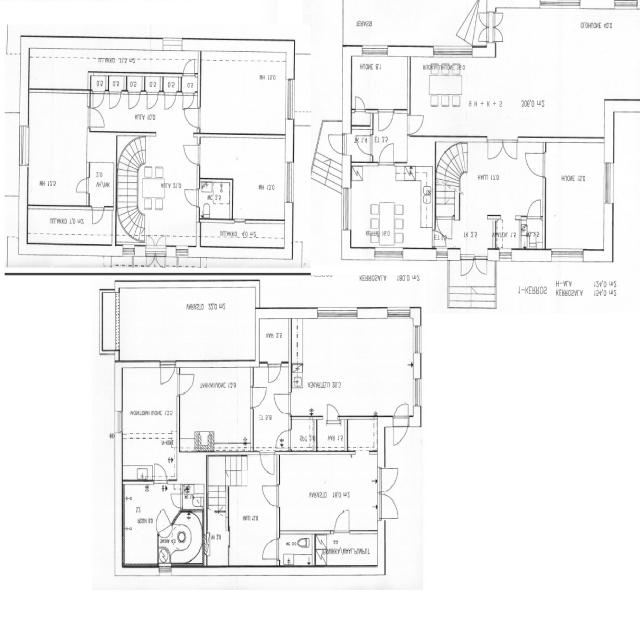door: (378, 468, 406, 494), (378, 494, 406, 519), (523, 152, 546, 178), (325, 133, 352, 155), (393, 395, 409, 427), (393, 416, 409, 448), (322, 394, 340, 419), (459, 248, 474, 278), (473, 248, 488, 278), (260, 538, 280, 560), (251, 385, 270, 408), (153, 510, 171, 534), (354, 134, 373, 156), (159, 361, 175, 387), (88, 107, 107, 128), (334, 510, 350, 534), (177, 374, 195, 395), (182, 107, 200, 128), (182, 144, 200, 165), (437, 217, 453, 240), (262, 486, 280, 506), (488, 136, 503, 160), (503, 136, 518, 160), (379, 142, 394, 166), (379, 110, 394, 133), (407, 115, 425, 134), (182, 188, 200, 207), (273, 394, 290, 414), (260, 452, 274, 474), (274, 430, 291, 448), (267, 364, 281, 385), (145, 229, 156, 255), (156, 229, 167, 255), (528, 198, 541, 219), (154, 464, 167, 484), (145, 243, 155, 269), (156, 243, 166, 269), (432, 230, 447, 247), (182, 92, 195, 110), (92, 206, 104, 225), (128, 92, 140, 111), (92, 92, 104, 111), (183, 58, 195, 76), (110, 92, 122, 110), (76, 178, 90, 193), (354, 96, 366, 113), (164, 92, 175, 110), (147, 92, 158, 110), (476, 12, 489, 27), (476, 27, 489, 42), (494, 14, 507, 28), (494, 28, 507, 42), (170, 494, 182, 508)
